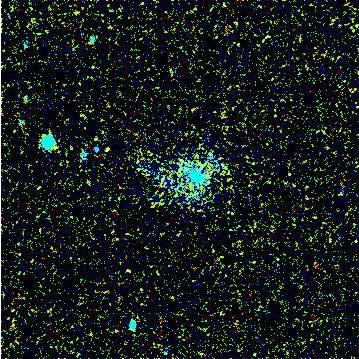star: (91, 135, 121, 165)
